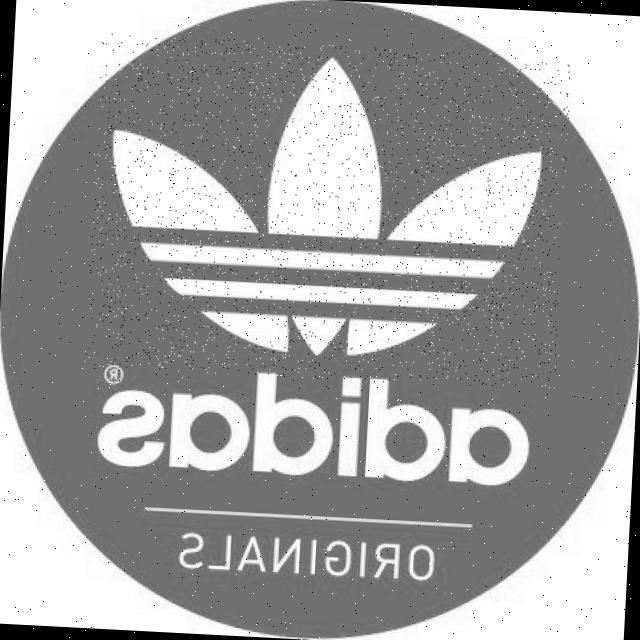Adidas: (84, 34, 572, 392)
